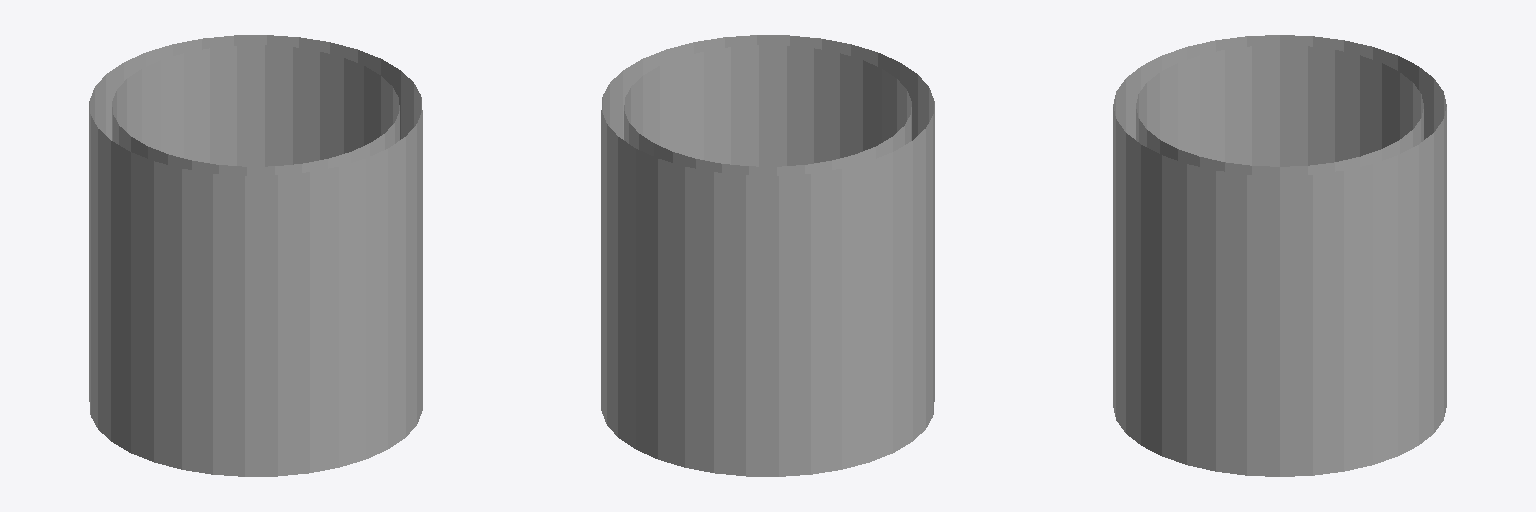
The model's file is warp_pipe_double_castle_water.obj.
3 renders of one model, left to right at view 1: azimuth 30°, elevation 25°; view 2: azimuth 150°, elevation 25°; view 3: azimuth 270°, elevation 25°, orthographic.
Parts seen in each view (by area): view 1: Cylinder; view 2: Cylinder; view 3: Cylinder.
Boxes of the visible parts, x1,y1,x2,y2 form: Cylinder: [89, 35, 422, 476]; Cylinder: [601, 35, 934, 476]; Cylinder: [1113, 35, 1446, 476].
Bounding box in the file's own units: 4 × 3.98 × 4.